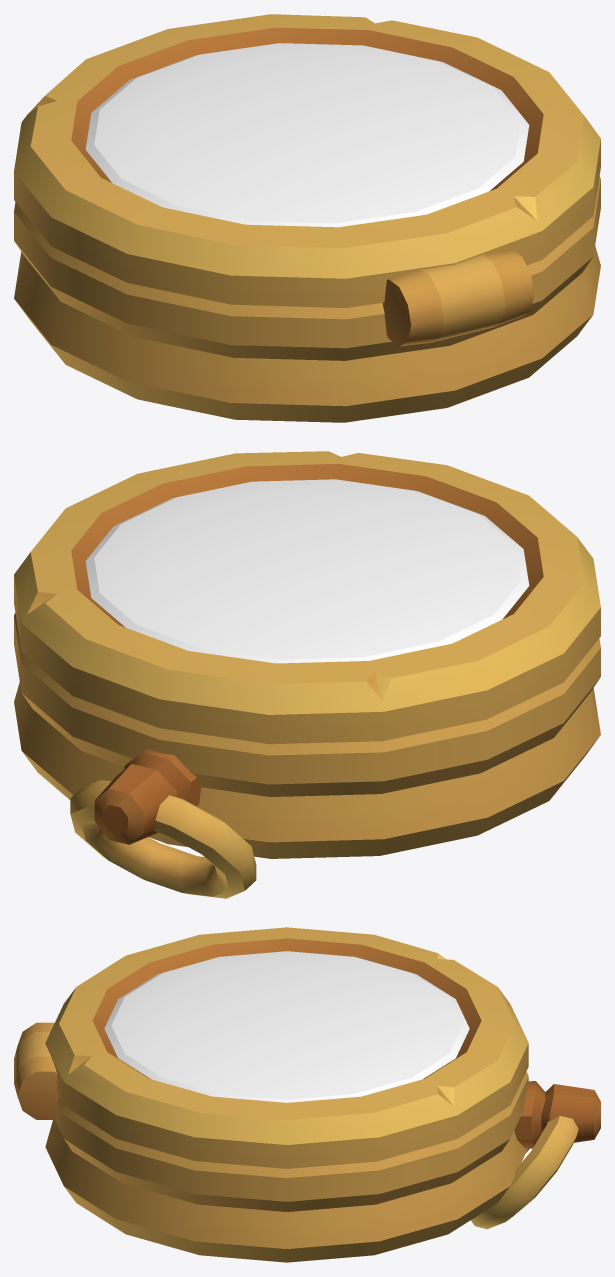
Rendered from kompass.glb.
3 renders of one model, top to bottom at view 1: azimuth 30°, elevation 25°; view 2: azimuth 150°, elevation 25°; view 3: azimuth 270°, elevation 25°, orthographic. The views are drawn at different scales.
Parts seen in each view (by area): view 1: compass_lid, compass_base; view 2: compass_lid, compass_base; view 3: compass_lid, compass_base.
Boxes of the visible parts, bbox=[...] form: compass_lid: bbox=[14, 14, 600, 346]; compass_base: bbox=[14, 177, 600, 422]; compass_lid: bbox=[14, 451, 600, 744]; compass_base: bbox=[14, 613, 600, 898]; compass_lid: bbox=[14, 927, 528, 1168]; compass_base: bbox=[45, 1071, 600, 1262].
Size of the model in its own units: 0.5741 by 0.2664 by 0.6971.
Materials: 2 (1 with a texture image).
